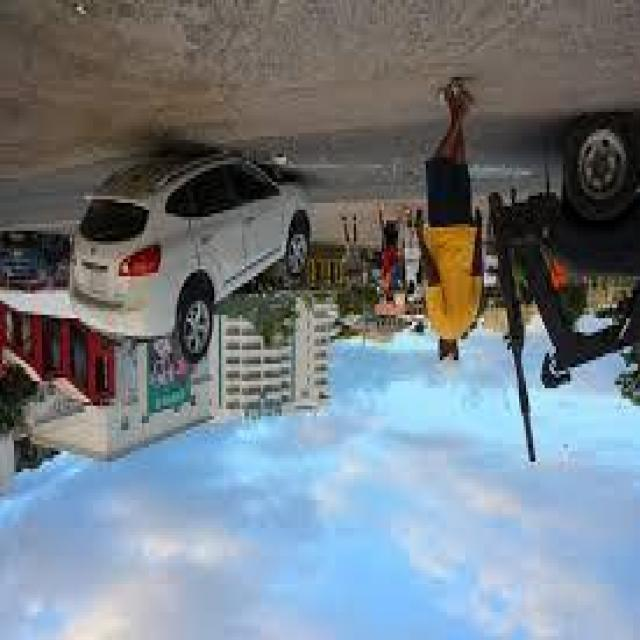severe: (63, 138, 319, 369)
